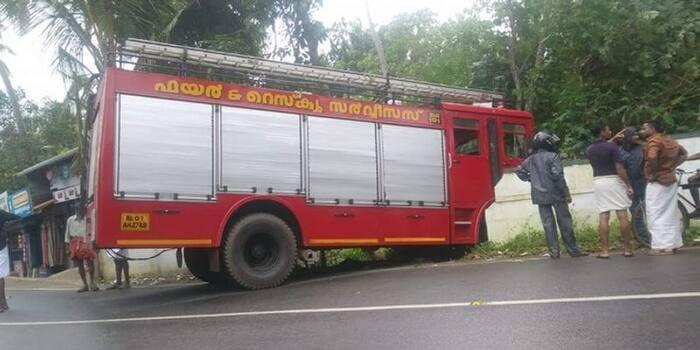Fire-engine: (85, 39, 535, 291), (114, 33, 516, 109), (147, 69, 227, 116)
